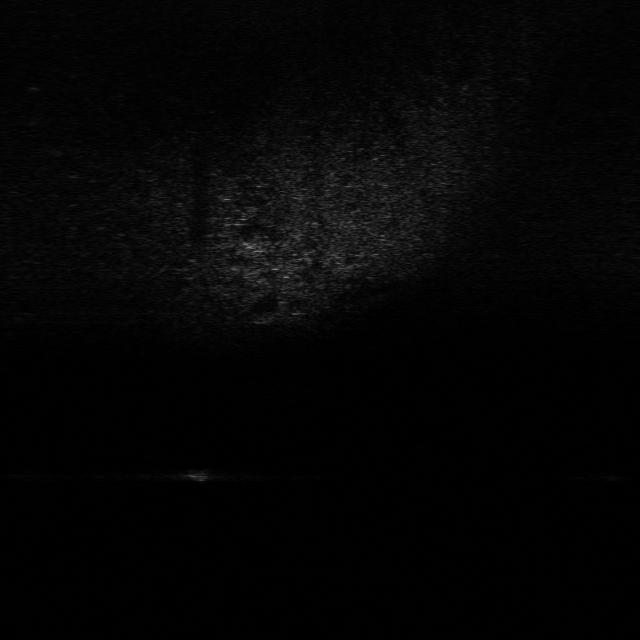cylinder: (178, 461, 222, 488)
